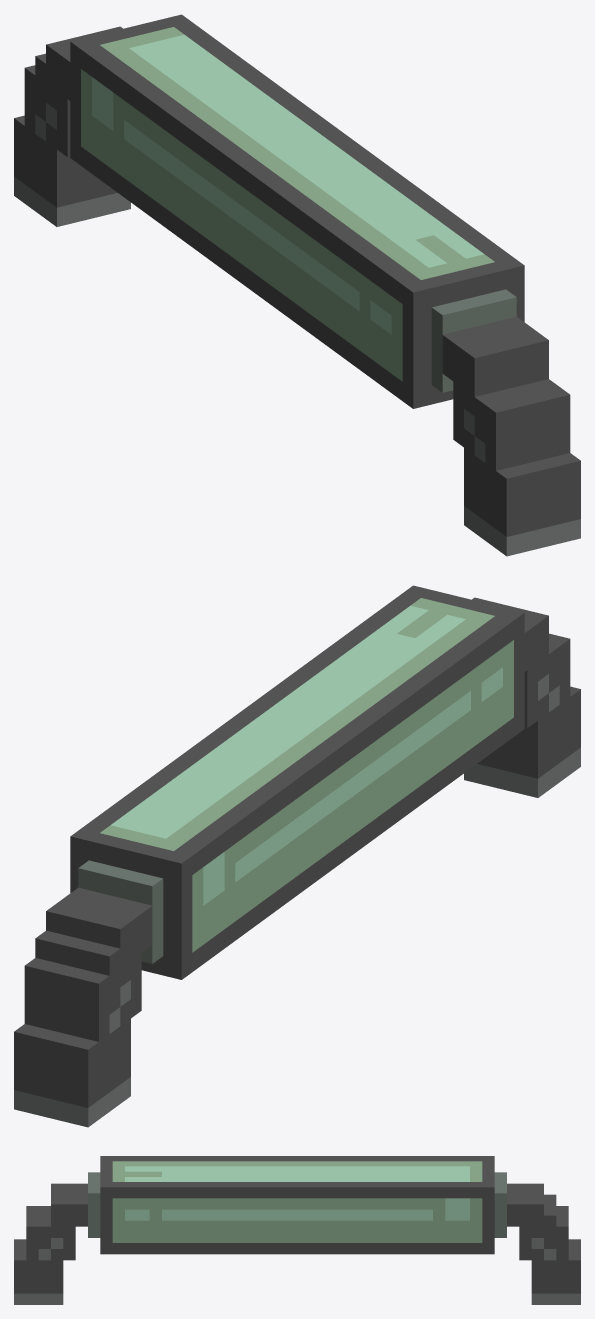
File: Resistor2.fbx
3 views of the same model, one above another, from view 1: azimuth 30°, elevation 25°; view 2: azimuth 150°, elevation 25°; view 3: azimuth 270°, elevation 25° (orthographic). The views are drawn at different scales.
Visible parts, largest first — view 1: Resistor2; view 2: Resistor2; view 3: Resistor2.
Part boxes in pixels (left/top/right/bottom): Resistor2: left=14, top=14, right=580, bottom=556; Resistor2: left=14, top=585, right=580, bottom=1127; Resistor2: left=14, top=1156, right=580, bottom=1304.
Size of the model in its own units: 0.6 by 1.1 by 4.6.
1 material, 1 textured.
